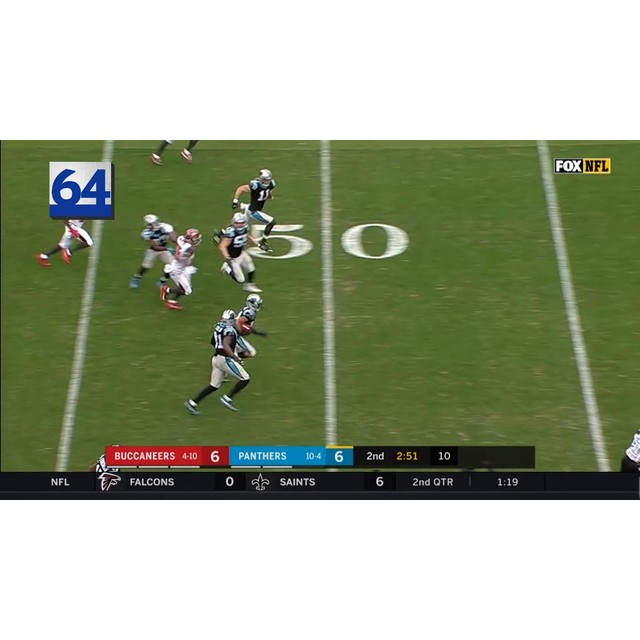american-football-player: (184, 310, 249, 414), (214, 213, 263, 291), (232, 168, 277, 249), (129, 214, 176, 291), (159, 228, 203, 310), (37, 218, 94, 267), (232, 294, 267, 361)
